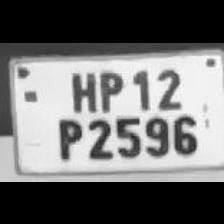1: (126, 65, 152, 109)
2: (151, 64, 185, 110), (84, 114, 112, 160)
5: (112, 111, 142, 158)
6: (170, 108, 200, 156)
9: (141, 111, 169, 156)
H: (65, 65, 99, 112)
P: (51, 113, 84, 161), (96, 65, 127, 109)
